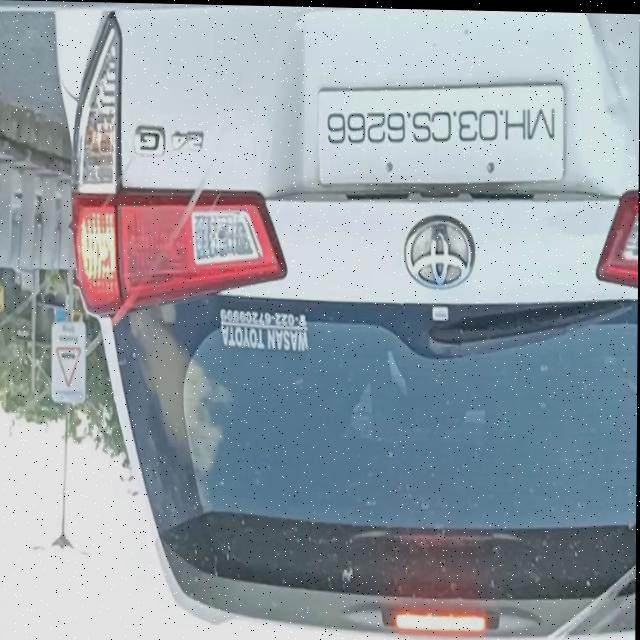plate: (317, 77, 566, 190)
